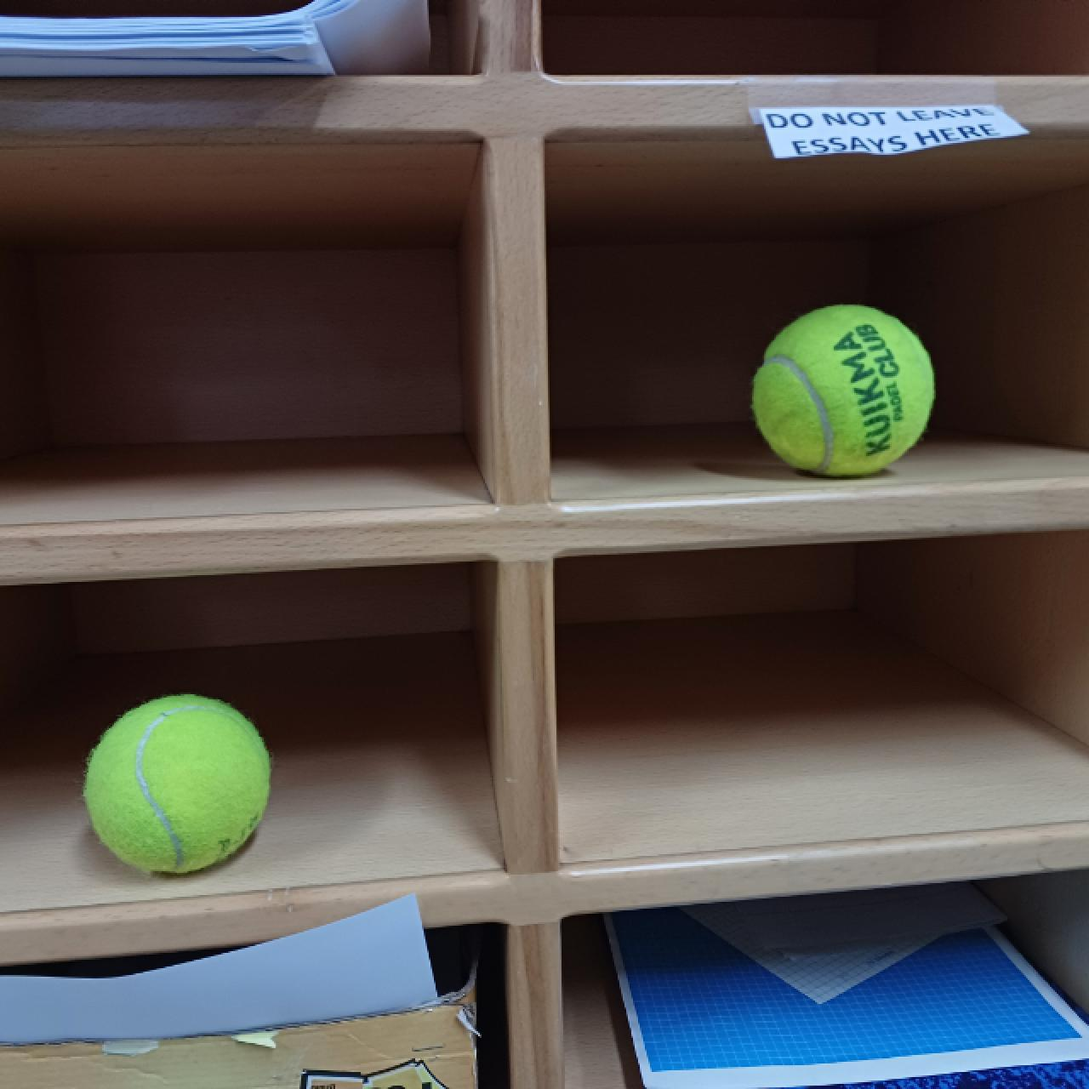tennis-ball: (79, 695, 275, 880), (750, 297, 939, 480)
